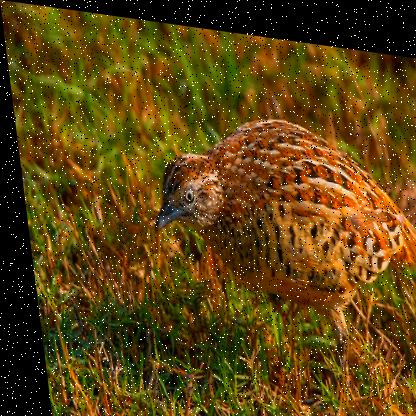Burung: (135, 94, 415, 414)
